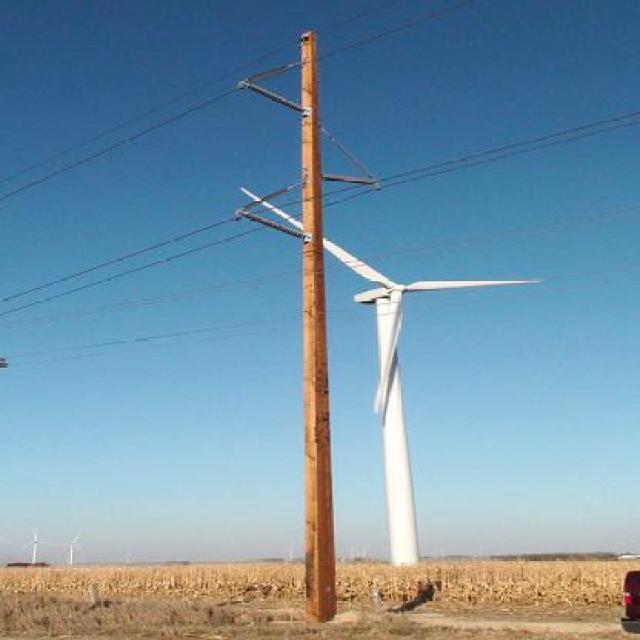non-critical vegetation: (218, 28, 366, 604)
